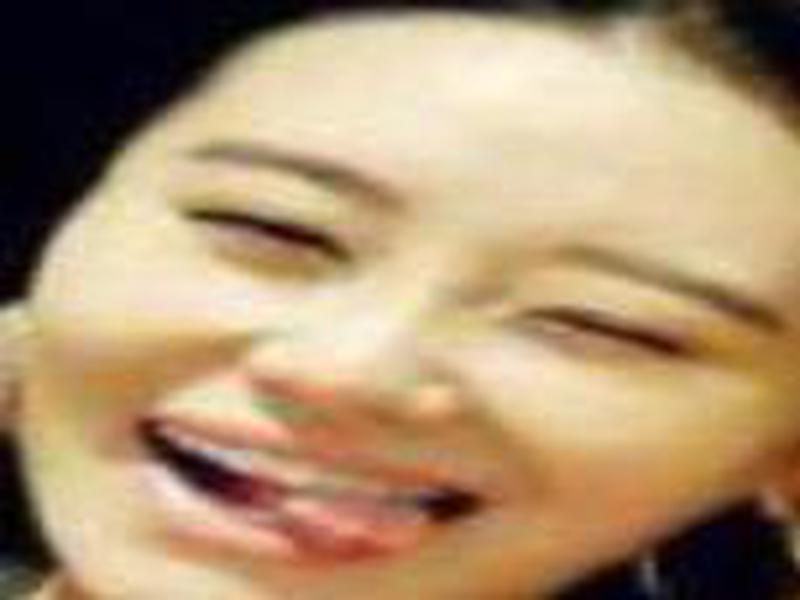without_mask: (17, 21, 787, 587)
